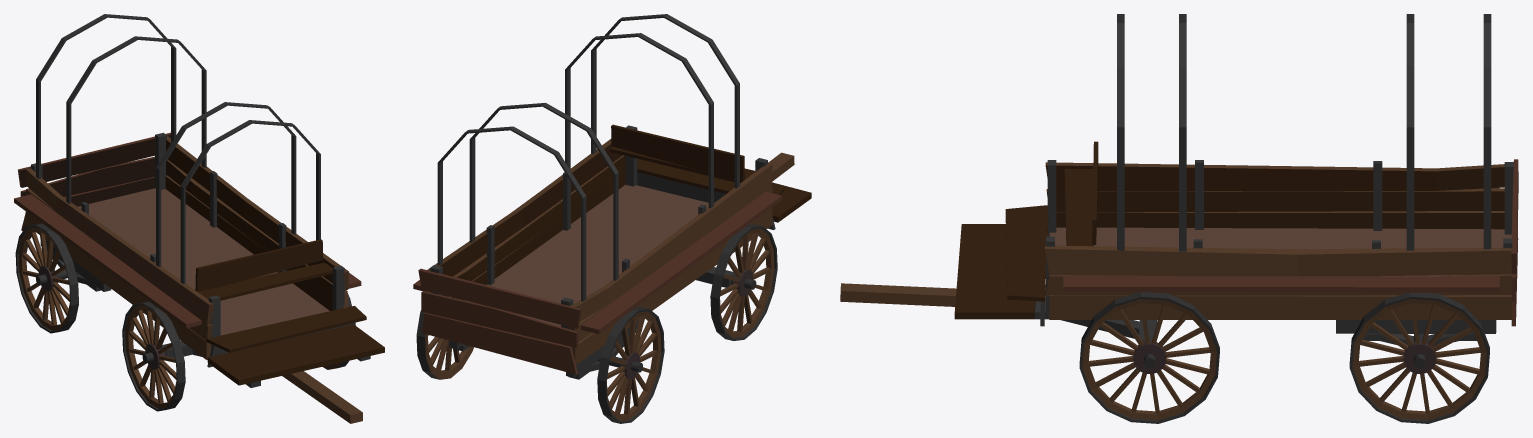
The model's file is Cart Big Open.glb.
The picture shows the model from 3 angles, left to right: view 1: azimuth 30°, elevation 25°; view 2: azimuth 150°, elevation 25°; view 3: azimuth 270°, elevation 25°; orthographic projection. The views are drawn at different scales.
Parts seen in each view (by area): view 1: Cart Big size Open; view 2: Cart Big size Open; view 3: Cart Big size Open.
Part boxes in pixels (x1,y1,x2,y2): Cart Big size Open: [14, 14, 384, 423]; Cart Big size Open: [413, 14, 811, 423]; Cart Big size Open: [840, 14, 1518, 423].
Size of what is drawn, in the model's own units: 2.86 by 3.96 by 7.04.
1 material, 1 textured.
